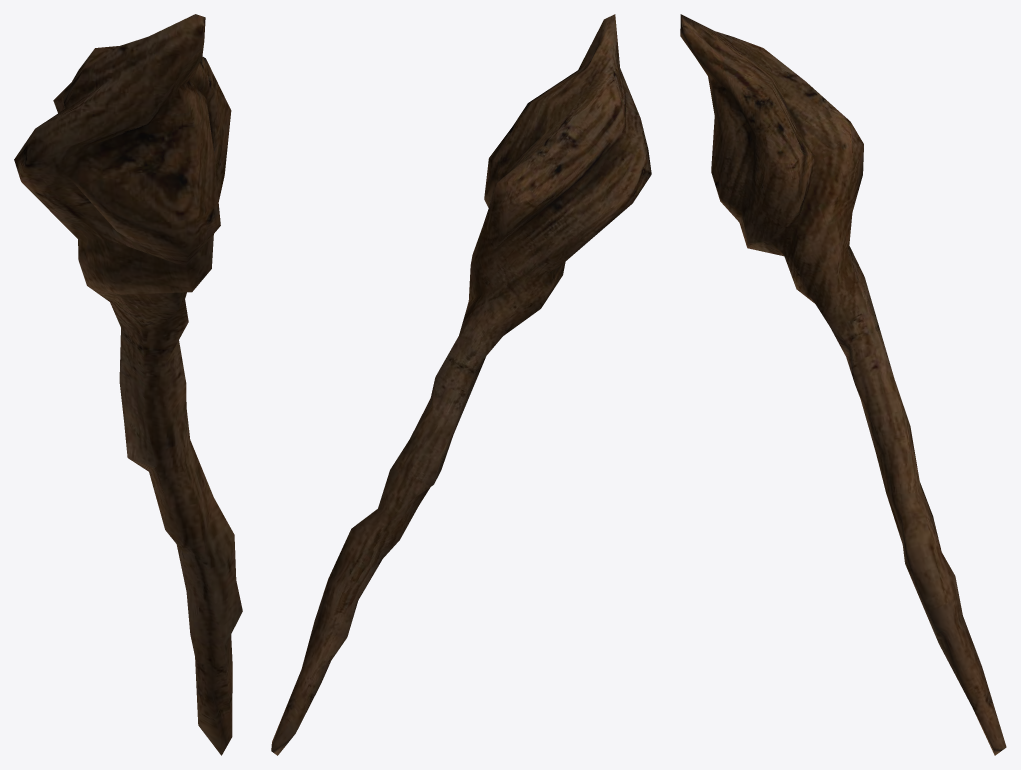
The model's file is weapon-base.glb.
3 views of the same model, side by side, from view 1: azimuth 30°, elevation 25°; view 2: azimuth 150°, elevation 25°; view 3: azimuth 270°, elevation 25° (orthographic). The views are drawn at different scales.
Bounding box in the file's own units: 0.344 × 0.8437 × 0.3798.
1 material, 1 textured.
